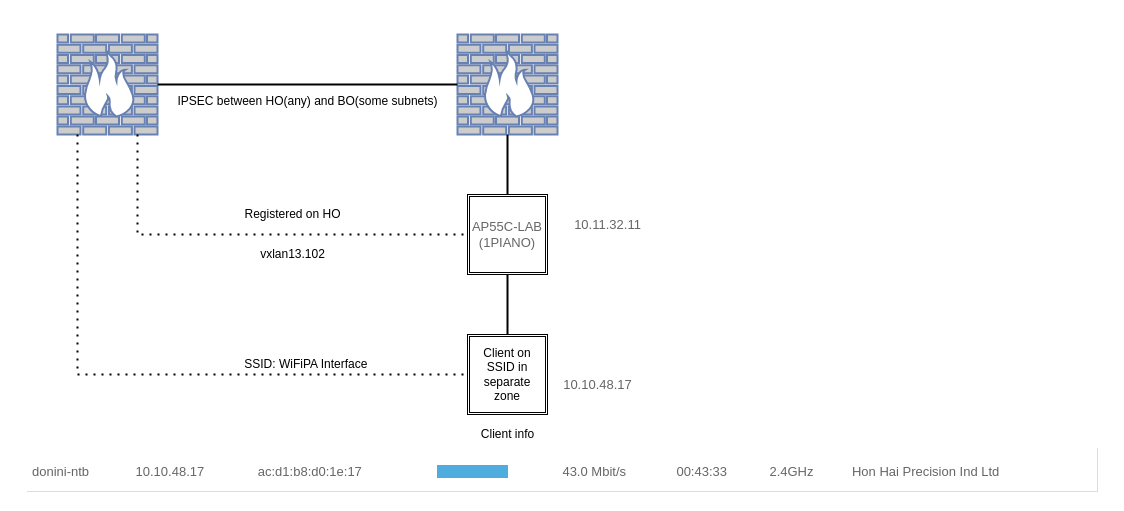
This 1124x511 diagram has some shape labels left out. The shapes that lost their labels are listed below. From the top down, each one's box as (x1, y1, x2, y2) in pixels, then its label:
(56, 33, 158, 135): HO
(456, 33, 558, 135): BO
